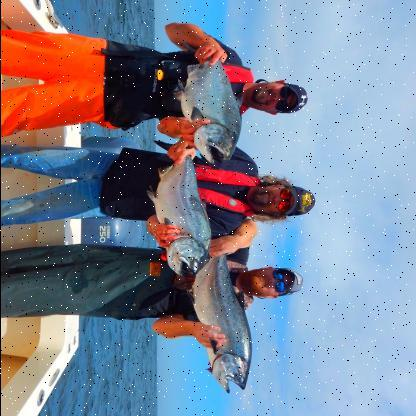fish: (189, 237, 251, 392), (146, 140, 210, 278), (174, 40, 242, 164)
